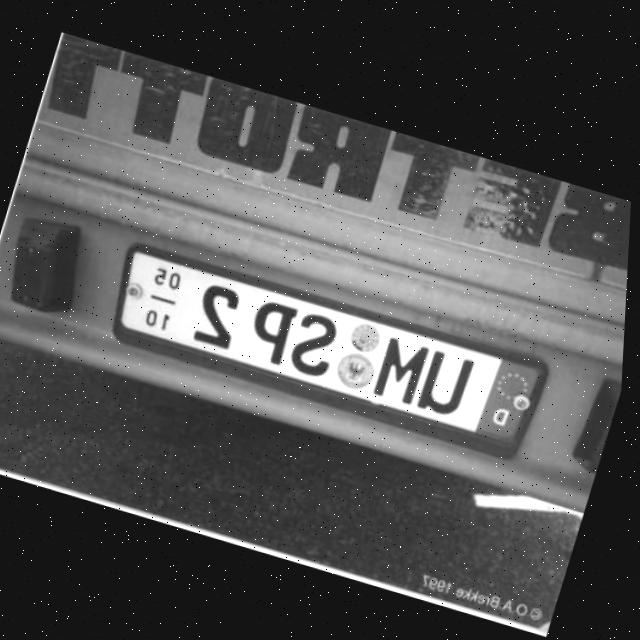license-plates: (111, 244, 547, 458)
